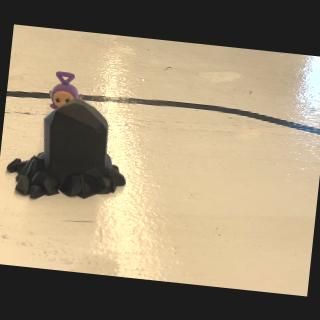teletubby: (49, 71, 83, 109)
